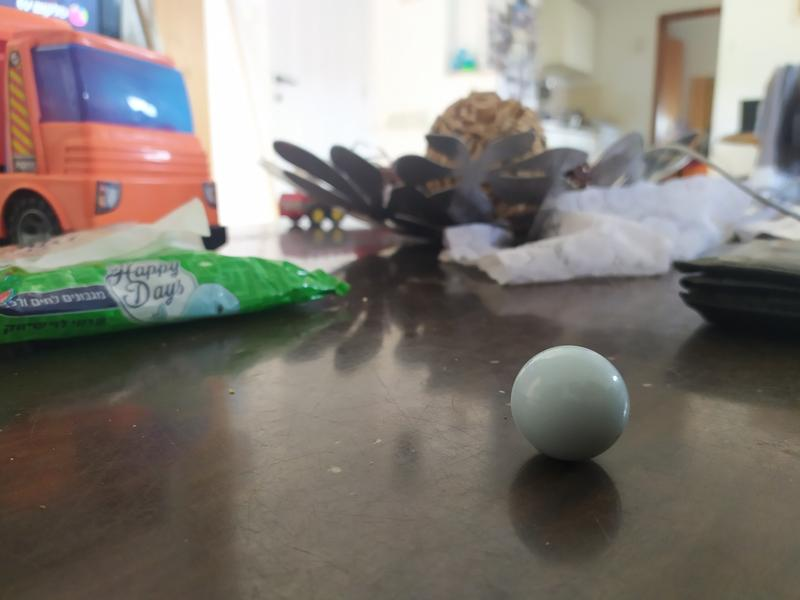Warning: (507, 342, 635, 465)
